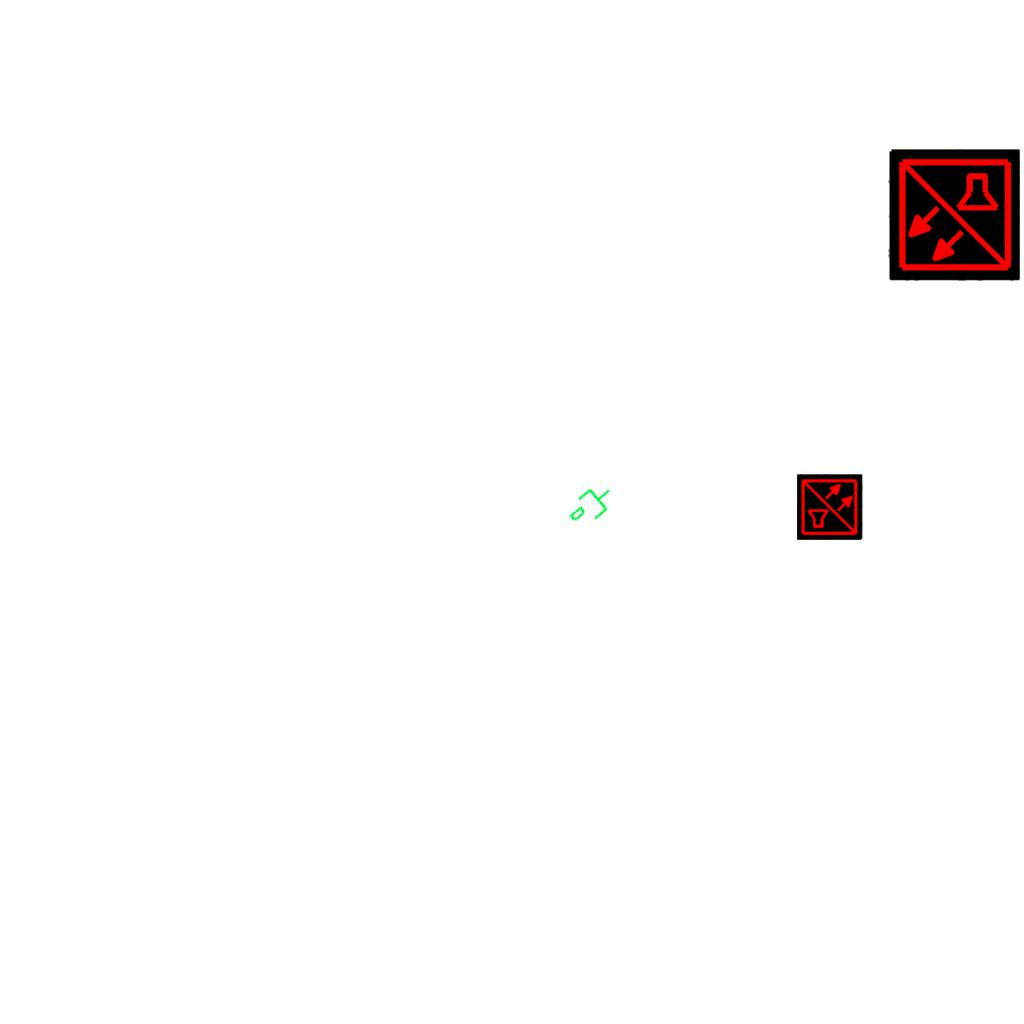Datenanschluss_einfach: (561, 476, 623, 536)
OKW_Multisensormelder_(Kombination_optischer_Rauch-Kahlenmonoxid_Waerme-Melder): (888, 149, 1020, 281), (797, 474, 863, 540)
